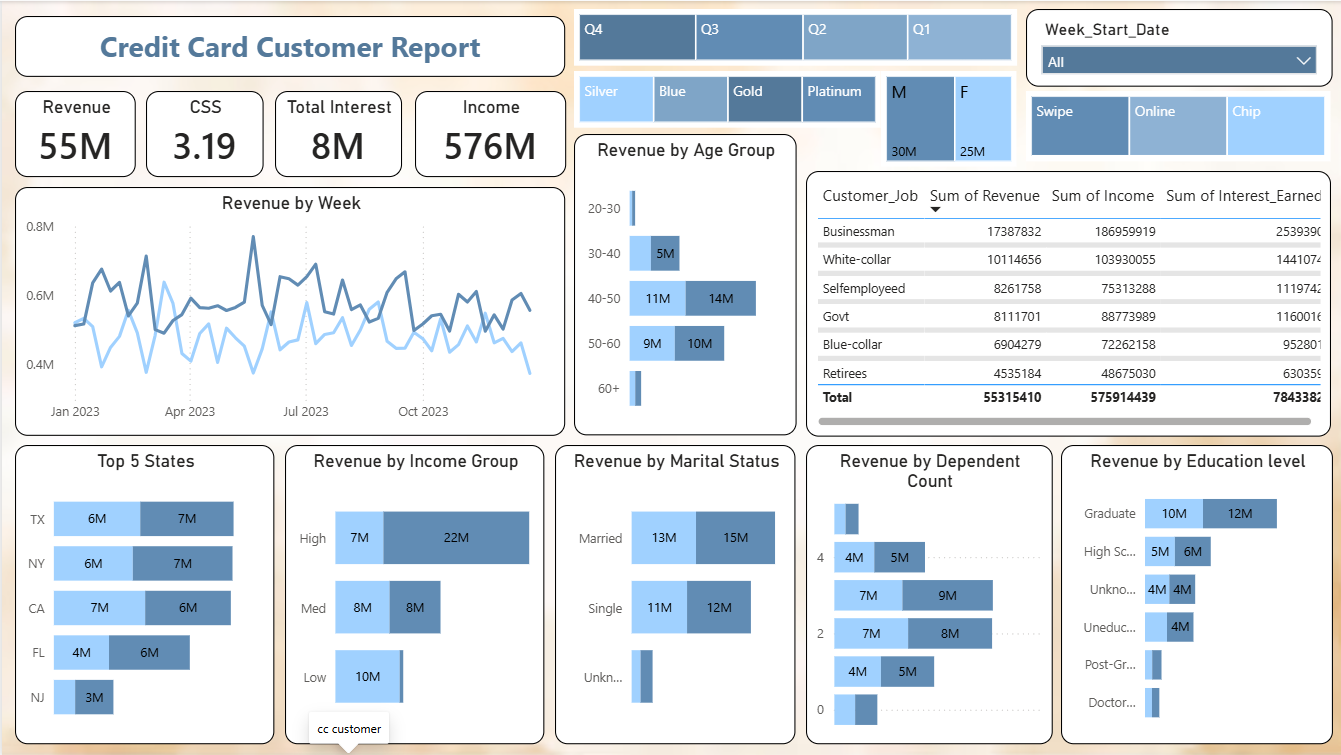

The page's visual inventory and layout, read from the dashboard file:
{"tool":"powerbi","page":{"name":"cc customer","canvas":[1280,720],"ordinal":1},"visuals":[{"type":"cardVisual","title":"CSS","fields":{"Data":["Avg(customer.Cust_Satisfaction_Score)"]},"box":[137.2,85.9,111.5,82.1],"z":0},{"type":"cardVisual","title":"Total Interest","fields":{"Data":["Sum(credit_card.Interest_Earned)"]},"box":[260.3,85.9,120.5,82.1],"z":1000},{"type":"cardVisual","title":"Income","fields":{"Data":["Sum(customer.Income)"]},"box":[393.6,85.9,143.6,82.1],"z":2000},{"type":"slicer","fields":{"Values":["credit_card.Week_Start_Date"]},"box":[975.6,7.7,292.3,74.4],"z":3000},{"type":"treemap","fields":{"Group":["credit_card.Qtr"],"Values":["Avg(customer.Client_Num)"]},"box":[544.9,7.7,421.8,53.8],"z":4000},{"type":"treemap","fields":{"Group":["credit_card.Use Chip"],"Values":["Avg(customer.Client_Num)"]},"box":[975.6,85.9,289.7,66.7],"z":5000},{"type":"treemap","fields":{"Group":["credit_card.Card_Category"],"Values":["Avg(customer.Client_Num)"]},"box":[544.9,66.7,292.3,53.8],"z":6000},{"type":"tableEx","fields":{"Values":["customer.Customer_Job","Sum(credit_card.Revenue)","Sum(customer.Income)","Sum(credit_card.Interest_Earned)"]},"box":[765.4,161.5,500,252.6],"z":7000},{"type":"textbox","box":[12.8,14.1,524.4,57.7],"z":8000},{"type":"cardVisual","title":"Revenue","fields":{"Data":["Sum(credit_card.Revenue)"]},"box":[12.8,85.9,115.4,82.1],"z":9000},{"type":"lineChart","title":"Revenue by Week","fields":{"Y":["Sum(credit_card.Revenue)"],"Series":["customer.Gender"],"Category":["credit_card.Week_Start_Date.Variation.Date Hierarchy.Year","credit_card.Week_Start_Date.Variation.Date Hierarchy.Month","credit_card.Week_Start_Date.Variation.Date Hierarchy.Day"]},"box":[12.8,176.9,524.4,237.2],"z":10000},{"type":"treemap","fields":{"Group":["customer.Gender"],"Values":["Sum(credit_card.Revenue)"]},"box":[837.2,66.7,129.5,91],"z":11000},{"type":"barChart","title":"Revenue by Income Group","fields":{"Y":["Sum(credit_card.Revenue)"],"Category":["customer.IncomeGroup"],"Series":["customer.Gender"]},"box":[269.2,423.1,247.4,284.6],"z":12000},{"type":"barChart","title":"Revenue by Age Group","fields":{"Y":["Sum(credit_card.Revenue)"],"Category":["customer.AgeGroup"],"Series":["customer.Gender"]},"box":[544.9,126.9,211.5,287.2],"z":13000},{"type":"barChart","title":"Revenue by Dependent Count","fields":{"Y":["Sum(credit_card.Revenue)"],"Category":["customer.Dependent_Count"],"Series":["customer.Gender"]},"box":[765.4,423.1,234.6,284.6],"z":14000},{"type":"barChart","title":"Revenue by Education level","fields":{"Y":["Sum(credit_card.Revenue)"],"Category":["customer.Education_Level"],"Series":["customer.Gender"]},"box":[1009,423.1,259,284.6],"z":15000},{"type":"barChart","title":"Top 5 States","fields":{"Y":["Sum(credit_card.Revenue)"],"Category":["customer.state_cd"],"Series":["customer.Gender"]},"box":[12.8,423.1,247.4,284.6],"z":16000},{"type":"barChart","title":"Revenue by Marital Status","fields":{"Y":["Sum(credit_card.Revenue)"],"Category":["customer.Marital_Status"],"Series":["customer.Gender"]},"box":[526.9,423.1,229.5,284.6],"z":17000}]}

Visuals, with their boxes in screenshot pixels (x1, y1, x2, y2), scaled from the page's 1280x720 canvas onto the 1341x755 screenshot:
"CSS" cardVisual: {"x1": 144, "y1": 90, "x2": 261, "y2": 176}
"Total Interest" cardVisual: {"x1": 273, "y1": 90, "x2": 399, "y2": 176}
"Income" cardVisual: {"x1": 412, "y1": 90, "x2": 563, "y2": 176}
slicer - credit_card.Week_Start_Date: {"x1": 1022, "y1": 8, "x2": 1328, "y2": 86}
treemap - credit_card.Qtr x Avg(customer.Client_Num): {"x1": 571, "y1": 8, "x2": 1013, "y2": 64}
treemap - credit_card.Use Chip x Avg(customer.Client_Num): {"x1": 1022, "y1": 90, "x2": 1326, "y2": 160}
treemap - credit_card.Card_Category x Avg(customer.Client_Num): {"x1": 571, "y1": 70, "x2": 877, "y2": 126}
tableEx - customer.Customer_Job x Sum(credit_card.Revenue): {"x1": 802, "y1": 169, "x2": 1326, "y2": 434}
textbox: {"x1": 13, "y1": 15, "x2": 563, "y2": 75}
"Revenue" cardVisual: {"x1": 13, "y1": 90, "x2": 134, "y2": 176}
"Revenue by Week" lineChart: {"x1": 13, "y1": 185, "x2": 563, "y2": 434}
treemap - customer.Gender x Sum(credit_card.Revenue): {"x1": 877, "y1": 70, "x2": 1013, "y2": 165}
"Revenue by Income Group" barChart: {"x1": 282, "y1": 444, "x2": 541, "y2": 742}
"Revenue by Age Group" barChart: {"x1": 571, "y1": 133, "x2": 792, "y2": 434}
"Revenue by Dependent Count" barChart: {"x1": 802, "y1": 444, "x2": 1048, "y2": 742}
"Revenue by Education level" barChart: {"x1": 1057, "y1": 444, "x2": 1328, "y2": 742}
"Top 5 States" barChart: {"x1": 13, "y1": 444, "x2": 273, "y2": 742}
"Revenue by Marital Status" barChart: {"x1": 552, "y1": 444, "x2": 792, "y2": 742}
